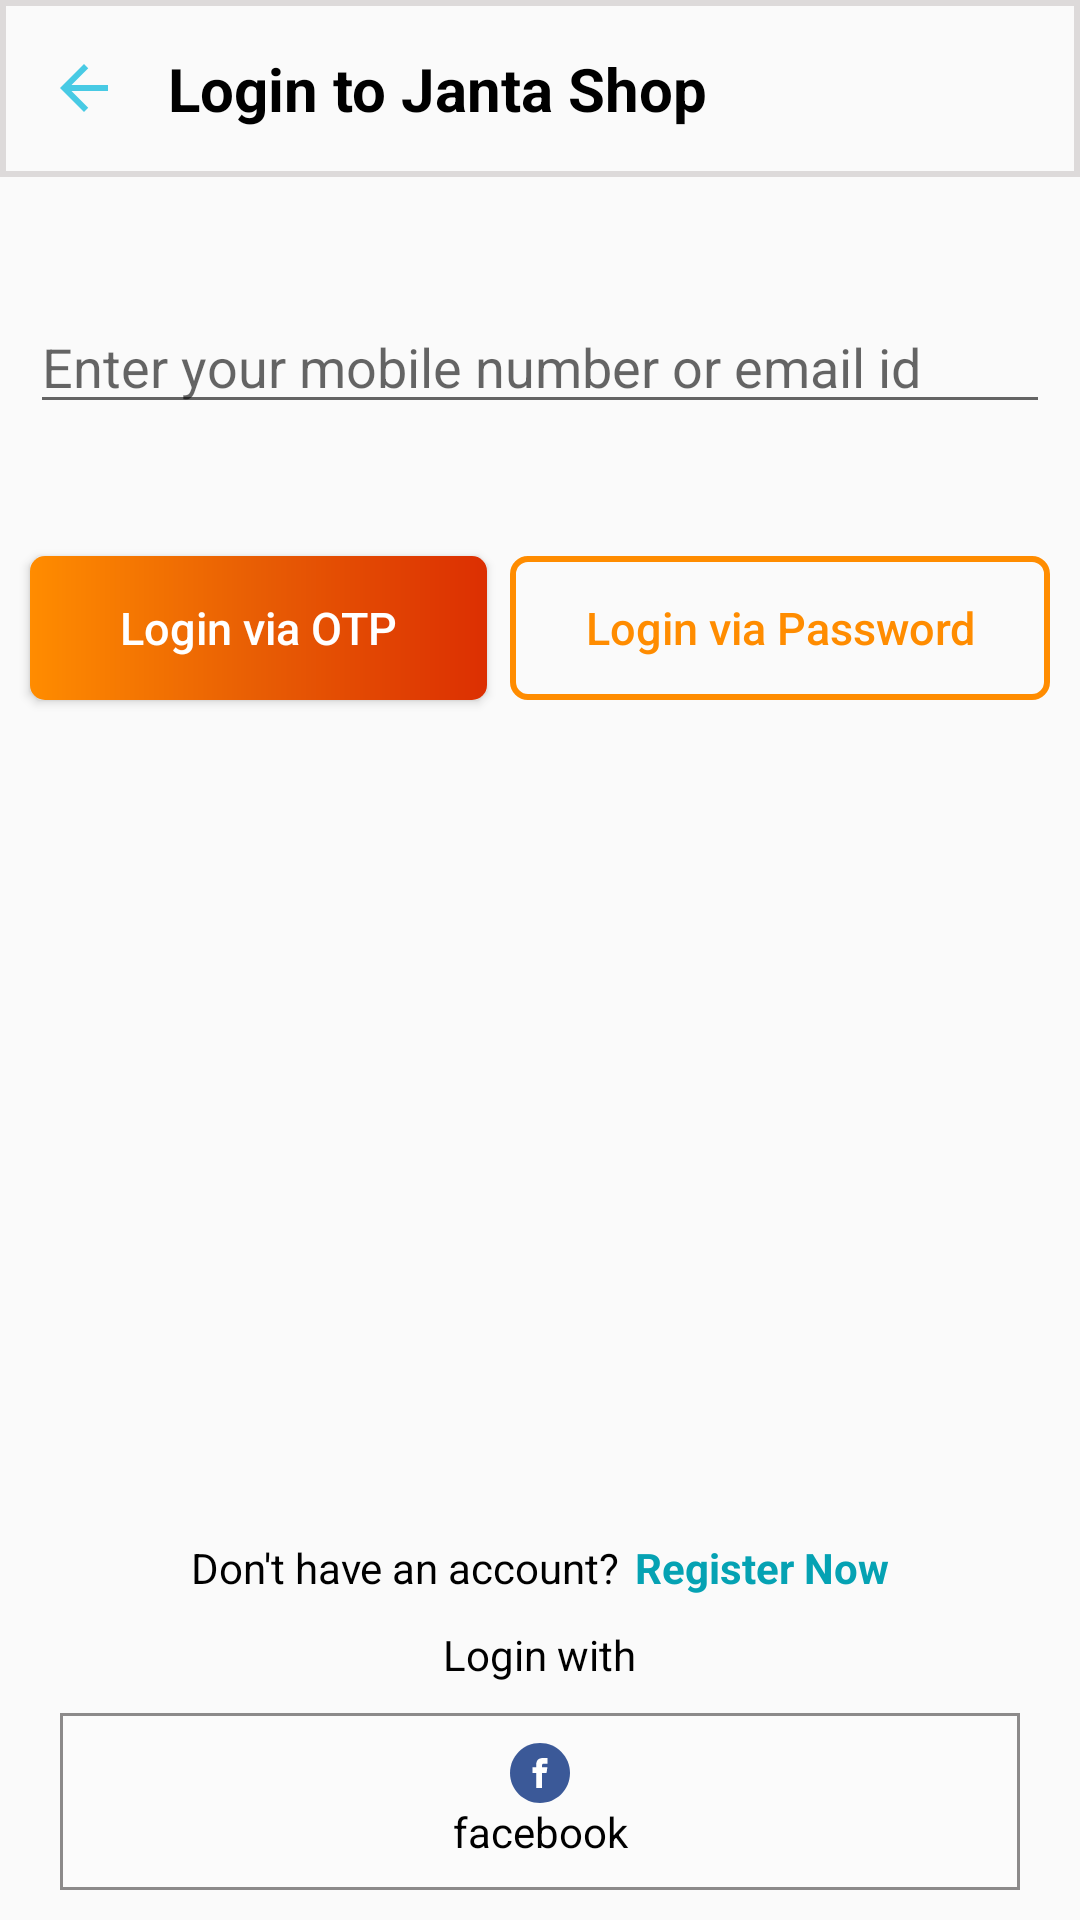

Where to tap for icons on this 1080px x 1920px app screen, as (x,y):
arrow back: (84,88)
